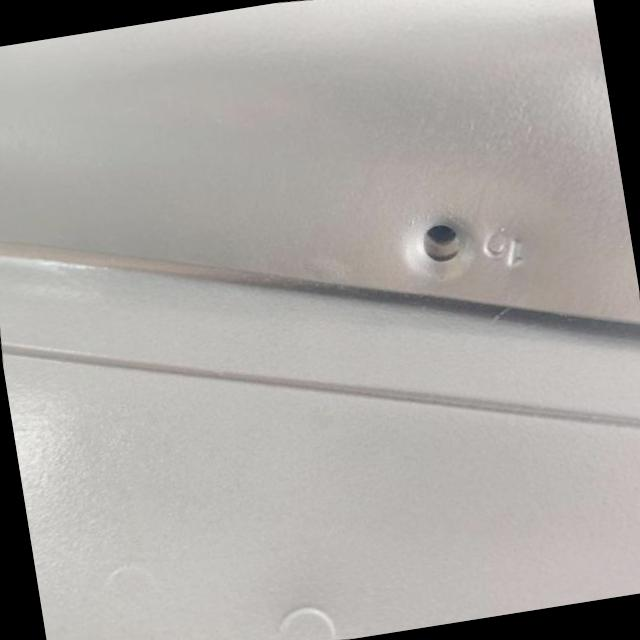Missing Fastener: (412, 216, 470, 266)
